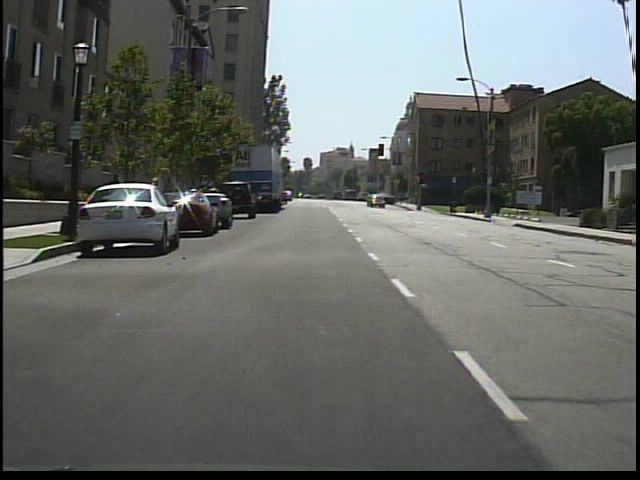person: (106, 168, 128, 220), (146, 172, 166, 219)
